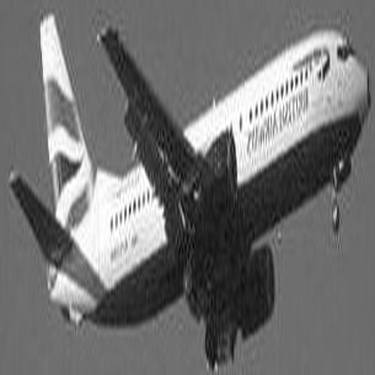airplane: (8, 4, 371, 370)
